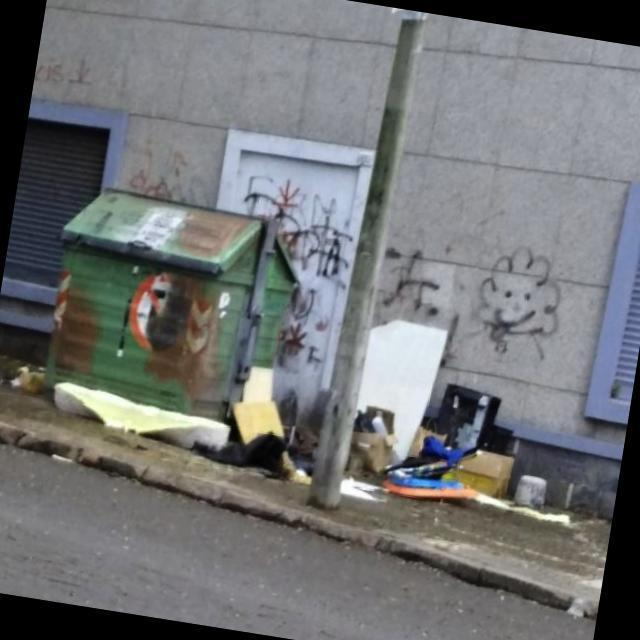garbage: (300, 278, 631, 556), (1, 363, 344, 490)
